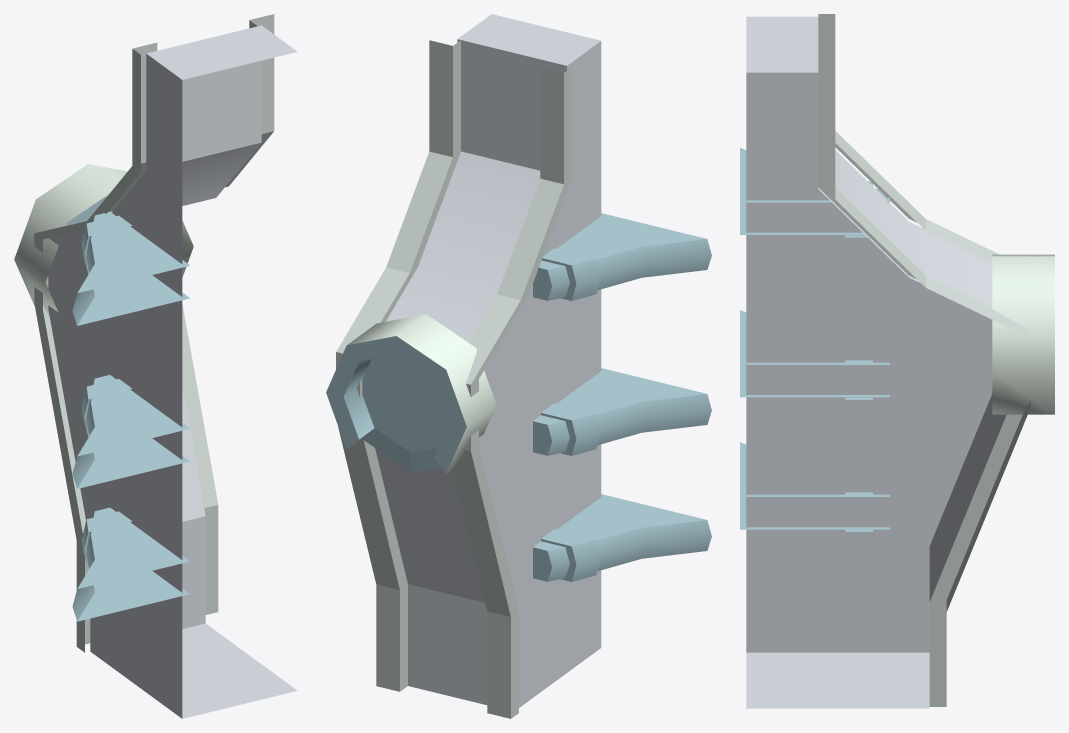
3 views of the same model, side by side, from view 1: azimuth 30°, elevation 25°; view 2: azimuth 150°, elevation 25°; view 3: azimuth 270°, elevation 25° (orthographic). The views are drawn at different scales.
Parts seen in each view (by area): view 1: Object67; view 2: Object67; view 3: Object67.
Boxes of the visible parts, x1,y1,x2,y2 form: Object67: (14, 14, 297, 718); Object67: (326, 14, 711, 718); Object67: (740, 14, 1054, 708).
Size of the model in its own units: 26219 by 64122 by 28764.
